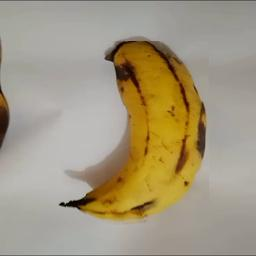Banana Semifresh: (55, 41, 209, 227)
